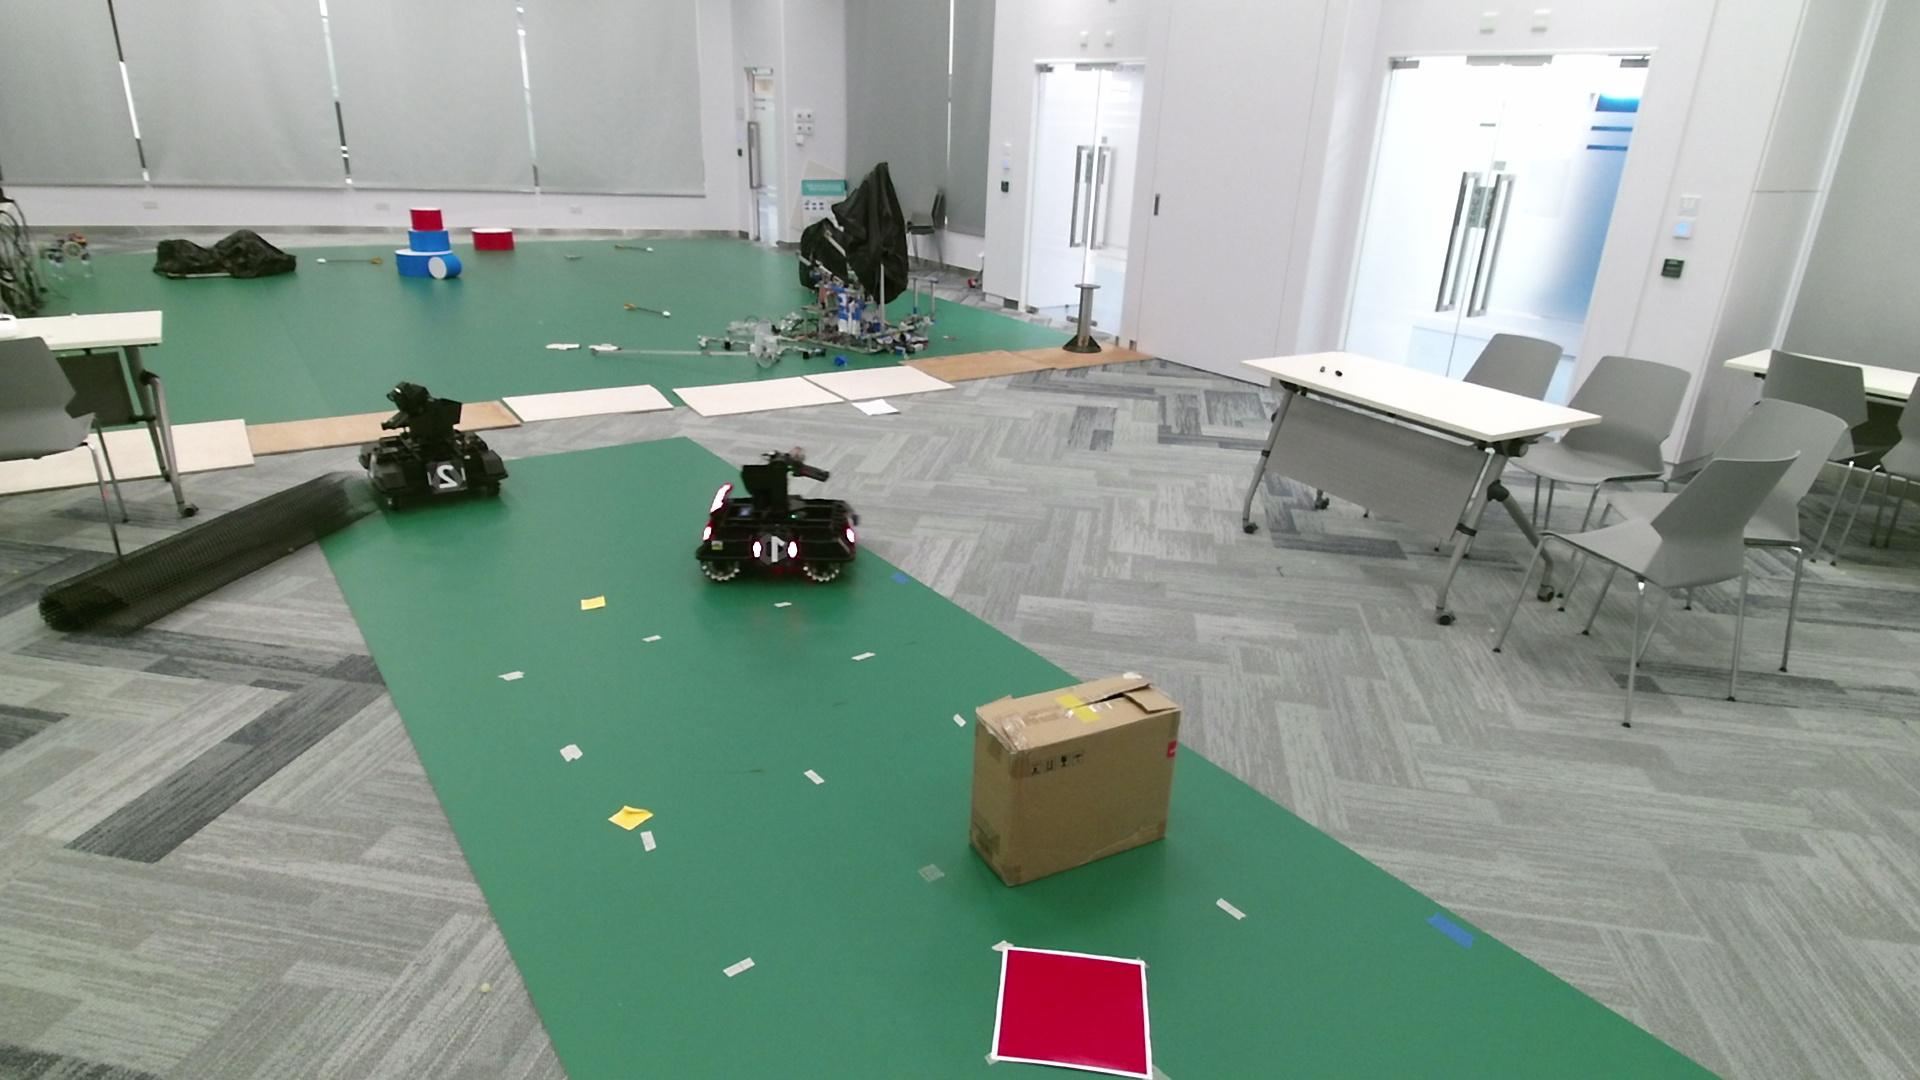robot: (694, 444, 861, 584), (357, 380, 509, 512)
